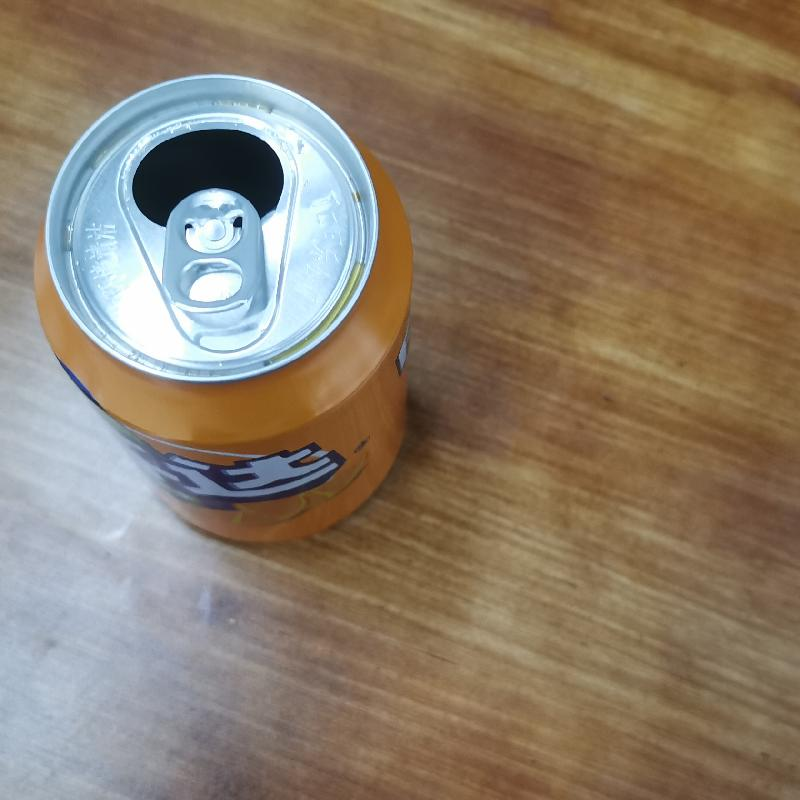cans: (28, 71, 418, 547)
